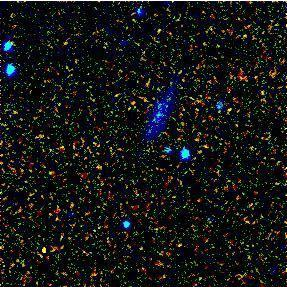star: (28, 235, 58, 265)
